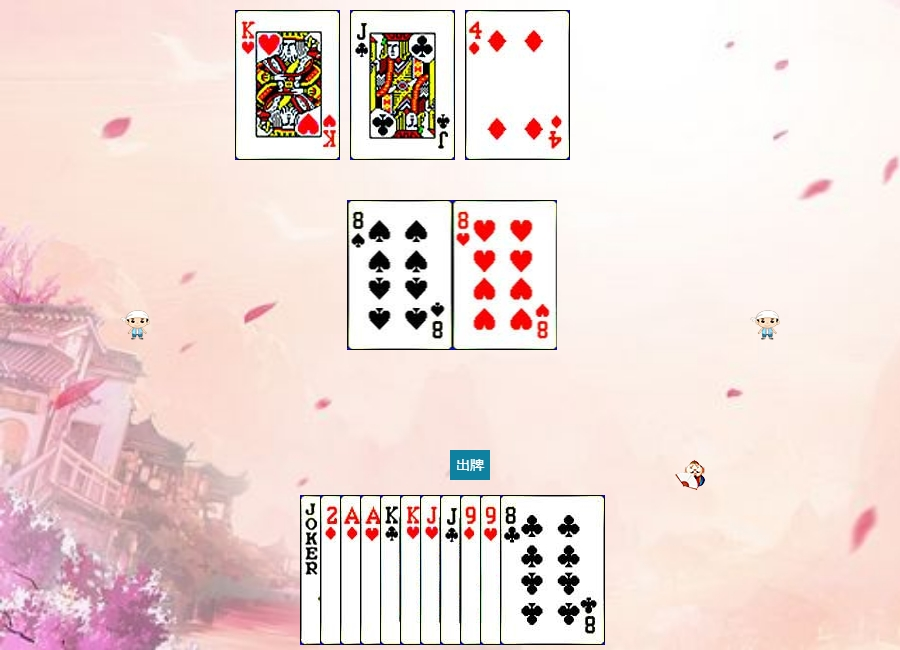11~2: (350, 10, 455, 160), (440, 495, 545, 645)
11~3: (420, 495, 525, 645)
13~2: (380, 495, 485, 645)
13~3: (235, 10, 340, 160), (400, 495, 505, 645)
14~1: (340, 495, 445, 645)
14~3: (360, 495, 465, 645)
15~1: (320, 495, 425, 645)
17~3: (300, 495, 405, 645)
4~1: (465, 10, 570, 160)
8~2: (500, 495, 605, 645)
8~3: (453, 200, 558, 350)
8~4: (348, 200, 453, 350)
9~1: (460, 495, 565, 645)
9~3: (480, 495, 585, 645)
